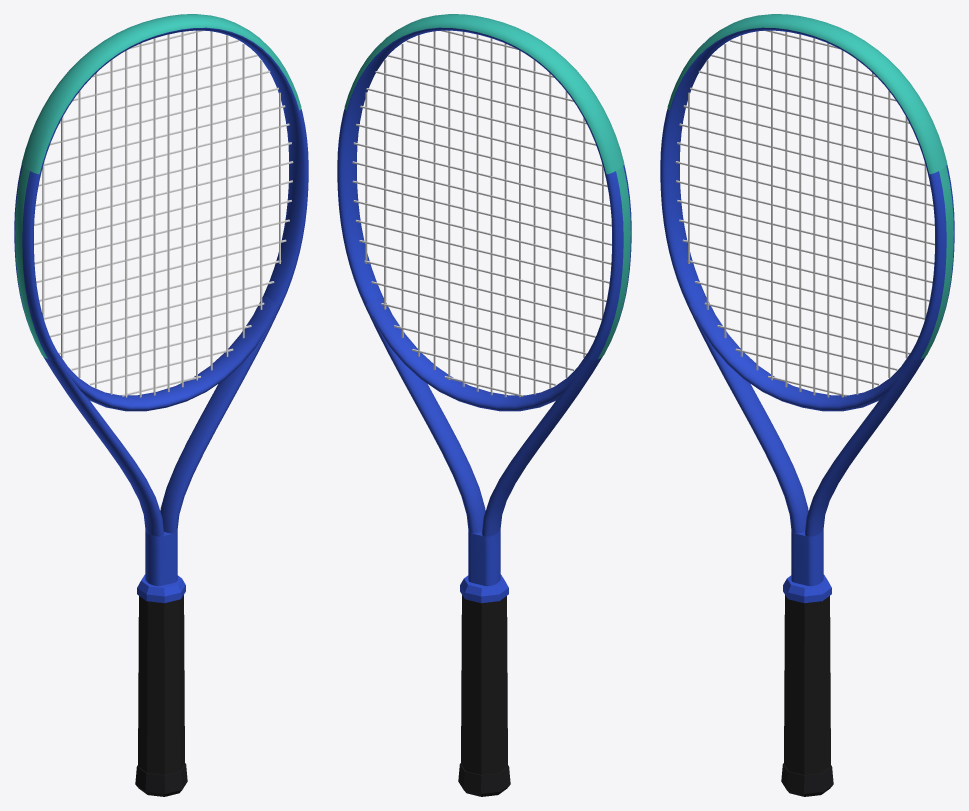
File: wilson-ultra-team-v5-2025.glb
3 views of the same model, side by side, from view 1: azimuth 30°, elevation 25°; view 2: azimuth 150°, elevation 25°; view 3: azimuth 330°, elevation 25° (orthographic).
Parts seen in each view (by area): view 1: frame, strings_mains, strings_crosses, grip, bumper, grommets, butt_cap, collar; view 2: frame, strings_mains, strings_crosses, grip, bumper, grommets, butt_cap, collar; view 3: frame, strings_mains, strings_crosses, grip, bumper, grommets, butt_cap, collar.
Part boxes in pixels (x1=…): frame: x1=14, y1=27, x2=308, y2=586; strings_mains: x1=42, y1=30, x2=280, y2=397; strings_crosses: x1=34, y1=30, x2=293, y2=396; grip: x1=138, y1=595, x2=184, y2=774; bumper: x1=21, y1=14, x2=301, y2=174; grommets: x1=15, y1=166, x2=47, y2=358; butt_cap: x1=135, y1=763, x2=187, y2=796; collar: x1=137, y1=574, x2=185, y2=603; frame: x1=337, y1=27, x2=631, y2=586; strings_mains: x1=365, y1=30, x2=603, y2=397; strings_crosses: x1=352, y1=30, x2=611, y2=396; grip: x1=461, y1=595, x2=507, y2=774; bumper: x1=344, y1=14, x2=624, y2=174; grommets: x1=598, y1=166, x2=630, y2=358; butt_cap: x1=458, y1=763, x2=510, y2=796; collar: x1=460, y1=574, x2=508, y2=603; frame: x1=660, y1=27, x2=954, y2=586; strings_mains: x1=688, y1=30, x2=926, y2=397; strings_crosses: x1=675, y1=30, x2=934, y2=396; grip: x1=784, y1=595, x2=830, y2=774; bumper: x1=667, y1=14, x2=947, y2=174; grommets: x1=921, y1=166, x2=953, y2=358; butt_cap: x1=781, y1=763, x2=833, y2=796; collar: x1=783, y1=574, x2=831, y2=603.
Size of the model in its own units: 0.2687 by 0.6861 by 0.0396.
